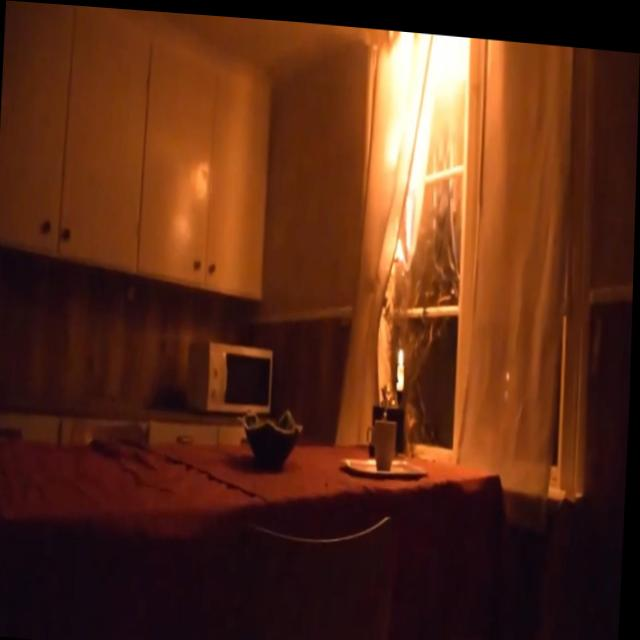fire: (362, 22, 470, 274), (399, 339, 407, 358)
